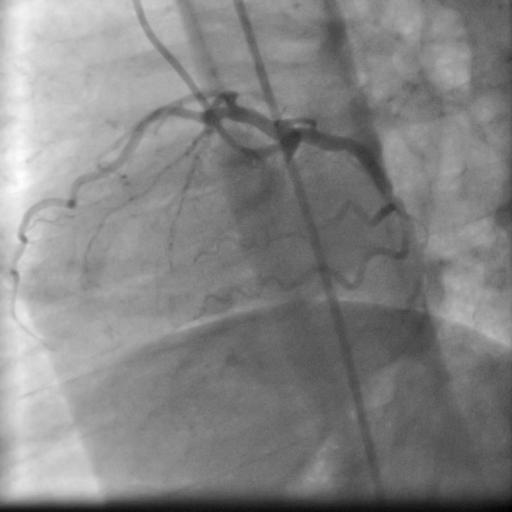Stenosis: (382, 186, 398, 203)
